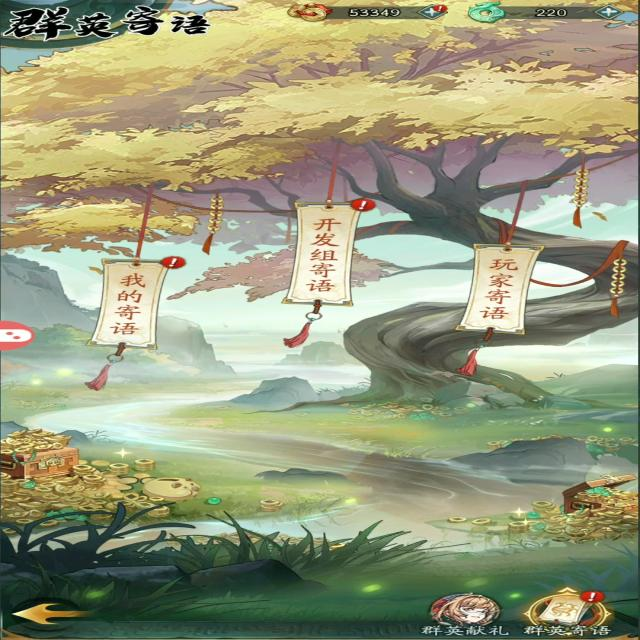hint-reddot: (336, 194, 377, 216), (156, 249, 192, 274), (575, 584, 610, 604), (433, 3, 448, 15)
operation-back: (11, 597, 97, 632)
operation-developerMessage: (267, 190, 389, 323)
operation-myMessage: (67, 245, 194, 354)
operation-playerMessage: (448, 226, 561, 348)
operation-qunyingjiyu: (523, 583, 612, 640)
operation-qunyingxianli: (407, 582, 519, 638)
